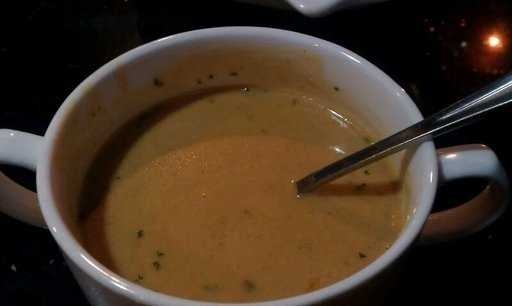soup: (39, 43, 412, 290)
